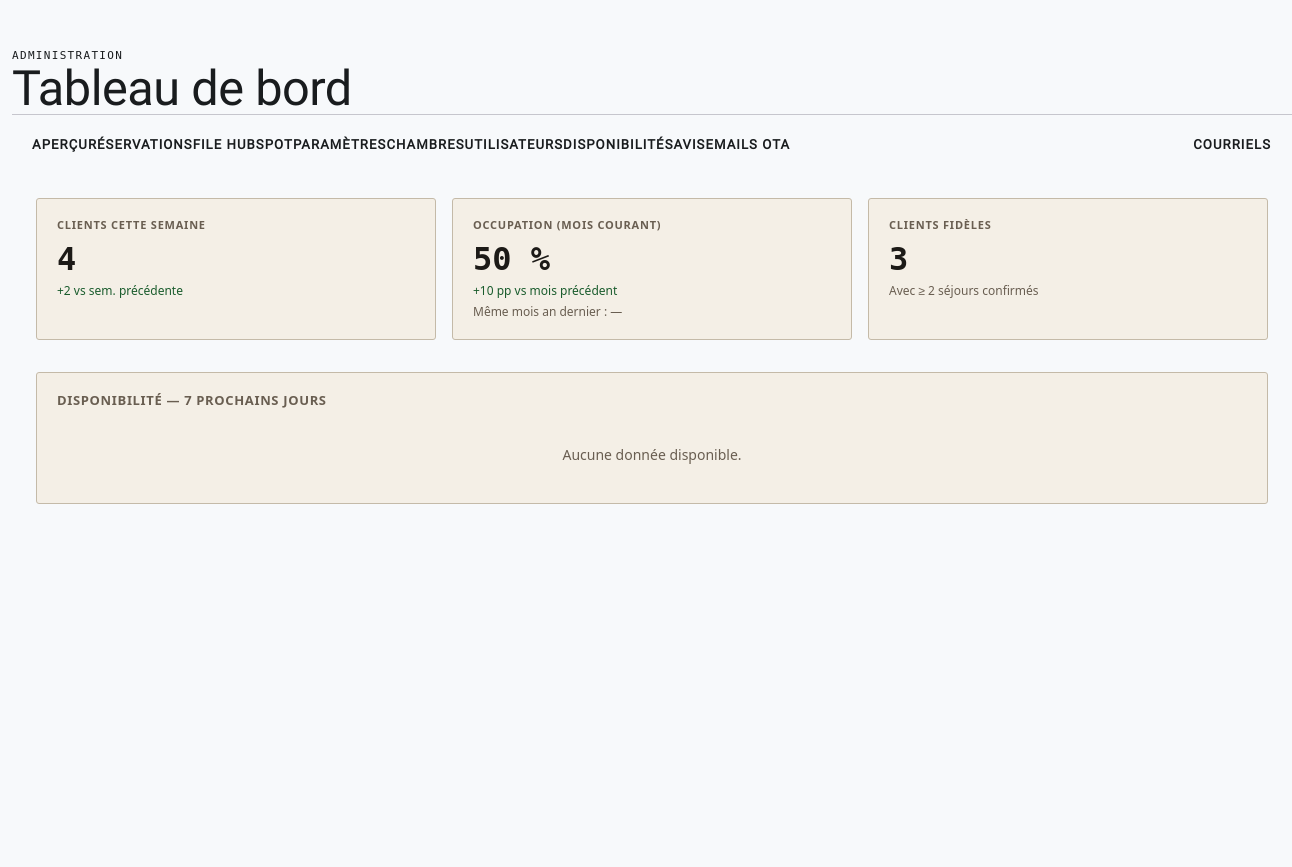
Test: page-admin contact phone › blocks save with a French error when the phone is empty
Click the tab with test id "tab-settings": coordinates (340, 145) [293, 115, 386, 174]
(page scrolled)
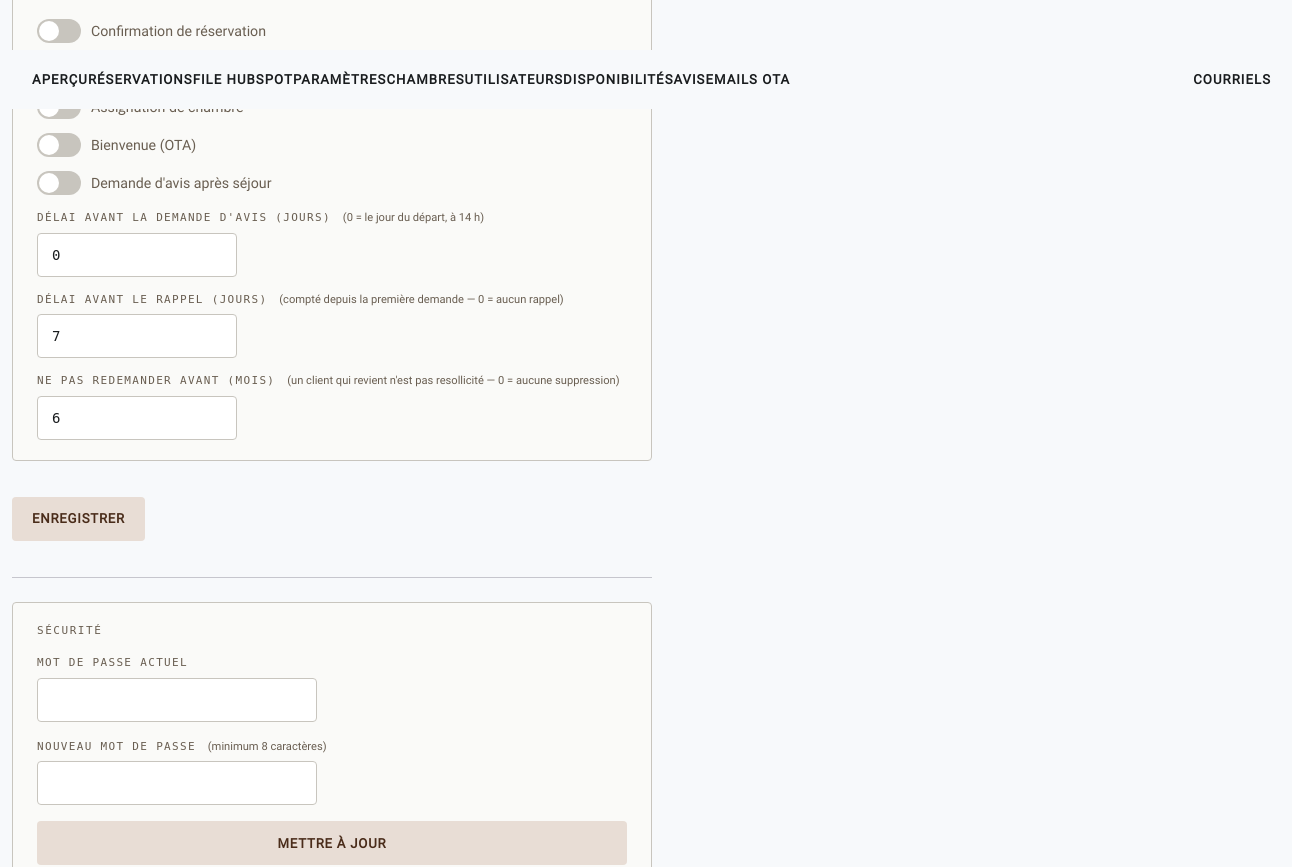
Click the button with test id "settings-save-btn": coordinates (78, 519) [12, 497, 145, 541]
(page scrolled)
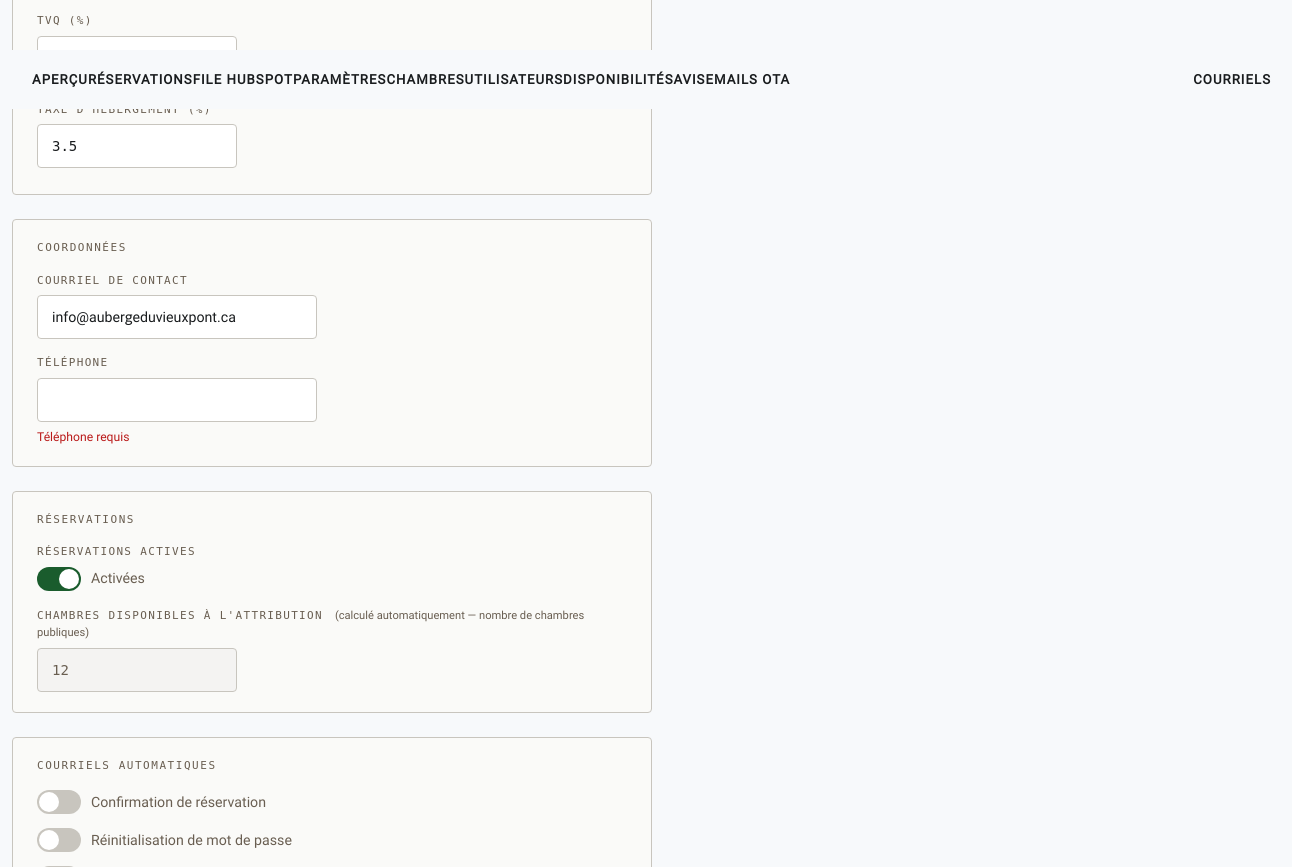
Expected: the message with test id "error-contact-phone" reads "Téléphone requis", [37, 429, 129, 444]
